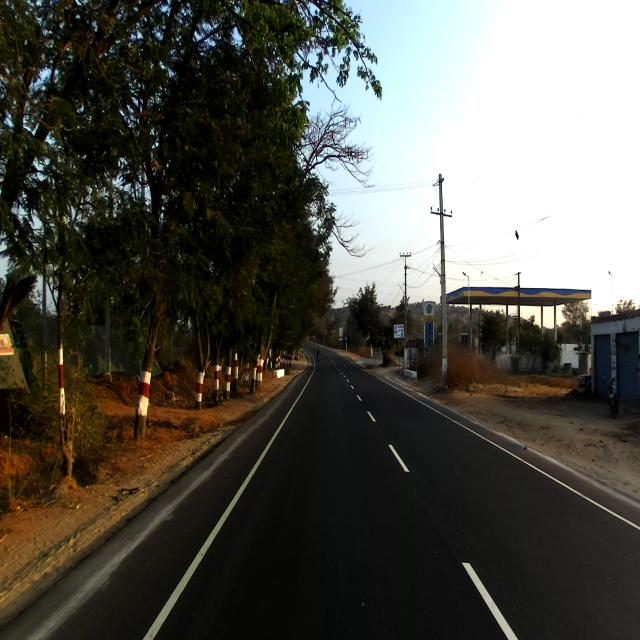tree ahead at: (50, 273, 79, 493), (131, 301, 161, 447)
